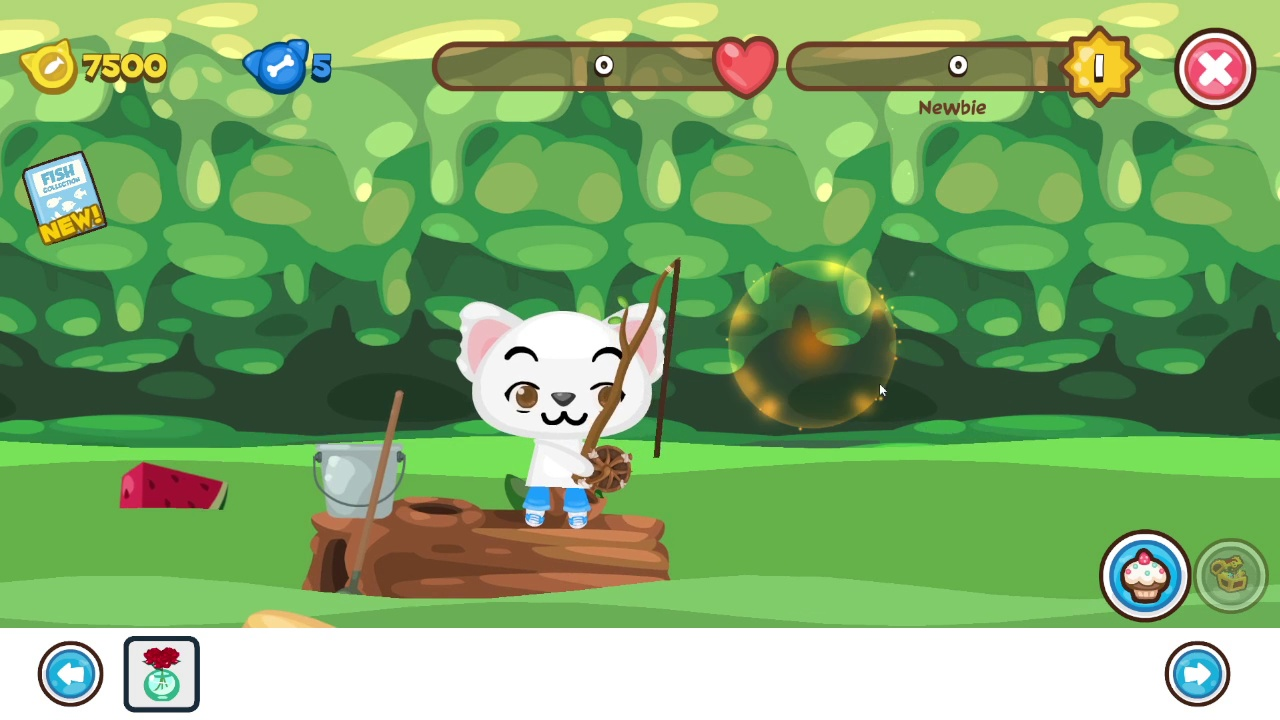point: (728, 261, 897, 430)
